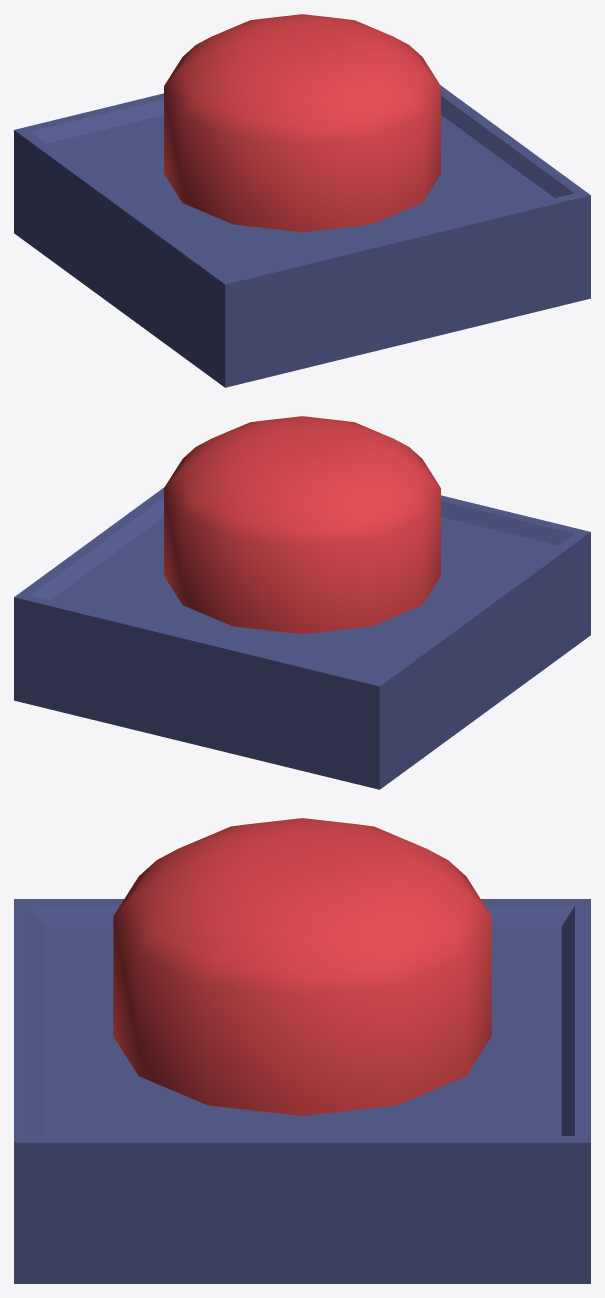
The model's file is save-button(tempary).fbx.
3 views of the same model, one above another, from view 1: azimuth 30°, elevation 25°; view 2: azimuth 150°, elevation 25°; view 3: azimuth 270°, elevation 25° (orthographic). The views are drawn at different scales.
Parts seen in each view (by area): view 1: Podstavka, Button; view 2: Podstavka, Button; view 3: Podstavka, Button.
Part boxes in pixels (x1=…): Podstavka: x1=14, y1=85, x2=590, y2=387; Button: x1=164, y1=14, x2=440, y2=232; Podstavka: x1=14, y1=487, x2=590, y2=789; Button: x1=164, y1=416, x2=440, y2=634; Podstavka: x1=14, y1=899, x2=590, y2=1283; Button: x1=113, y1=818, x2=491, y2=1115.
Bounding box in the file's own units: 305 × 180 × 305.
